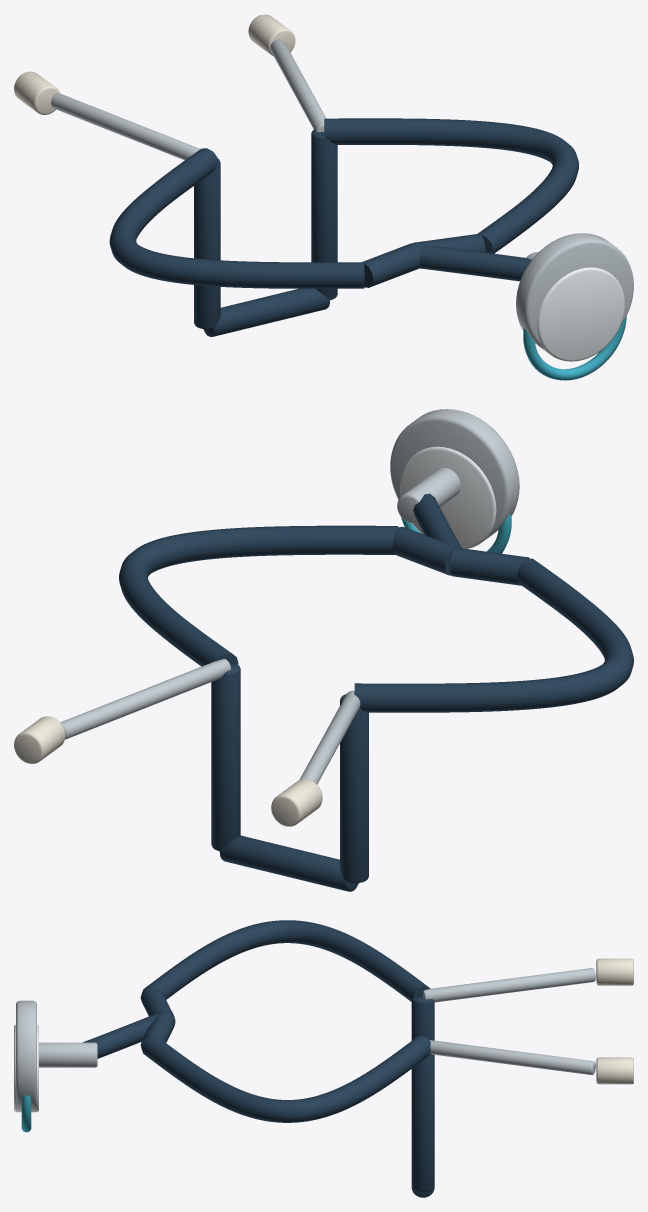
The model's file is medical_stethoscope.glb.
3 renders of one model, top to bottom at view 1: azimuth 30°, elevation 25°; view 2: azimuth 150°, elevation 25°; view 3: azimuth 270°, elevation 25°, orthographic. The views are drawn at different scales.
Parts seen in each view (by area): view 1: Stethoscope_LeftTubing, Stethoscope_RightTubing, Stethoscope_Diaphragm, Stethoscope_Chestpiece, Stethoscope_RightNeckSpacer, Stethoscope_LeftNeckSpacer, Stethoscope_NeckContact, Stethoscope_CentreTube, Stethoscope_LeftBinaural, Stethoscope_RightBinaural, Stethoscope_ChestpieceAccent, Stethoscope_LeftYoke (+3 smaller); view 2: Stethoscope_LeftTubing, Stethoscope_RightTubing, Stethoscope_Chestpiece, Stethoscope_RightNeckSpacer, Stethoscope_Diaphragm, Stethoscope_LeftNeckSpacer, Stethoscope_NeckContact, Stethoscope_RightBinaural, Stethoscope_LeftYoke, Stethoscope_RightYoke, Stethoscope_LeftBinaural, Stethoscope_LeftEartip (+3 smaller); view 3: Stethoscope_RightTubing, Stethoscope_LeftTubing, Stethoscope_RightNeckSpacer, Stethoscope_LeftBinaural, Stethoscope_RightBinaural, Stethoscope_Chestpiece, Stethoscope_ChestpieceStem, Stethoscope_CentreTube, Stethoscope_LeftEartip, Stethoscope_RightEartip, Stethoscope_LeftNeckSpacer, Stethoscope_RightYoke (+2 smaller).
Boxes of the visible parts, x1,y1,x2,y2 form: Stethoscope_LeftTubing: (109,148,364,288); Stethoscope_RightTubing: (324,118,578,253); Stethoscope_Diaphragm: (537,267,624,361); Stethoscope_Chestpiece: (516,233,633,349); Stethoscope_RightNeckSpacer: (311,129,337,299); Stethoscope_LeftNeckSpacer: (194,158,220,329); Stethoscope_NeckContact: (203,288,329,336); Stethoscope_CentreTube: (419,246,531,281); Stethoscope_LeftBinaural: (51,93,200,160); Stethoscope_RightBinaural: (270,39,326,132); Stethoscope_ChestpieceAccent: (523,316,626,380); Stethoscope_LeftYoke: (362,243,419,287); Stethoscope_LeftTubing: (354,558,633,712); Stethoscope_RightTubing: (119,525,398,666); Stethoscope_Chestpiece: (390,409,519,537); Stethoscope_RightNeckSpacer: (211,664,240,851); Stethoscope_Diaphragm: (400,446,496,548); Stethoscope_LeftNeckSpacer: (340,694,368,883); Stethoscope_NeckContact: (219,835,358,891); Stethoscope_RightBinaural: (60,659,231,739); Stethoscope_LeftYoke: (450,548,529,585); Stethoscope_RightYoke: (392,526,457,575); Stethoscope_LeftBinaural: (299,690,360,784); Stethoscope_LeftEartip: (271,779,322,826); Stethoscope_RightTubing: (141,1036,430,1122); Stethoscope_LeftTubing: (142,920,430,1001); Stethoscope_RightNeckSpacer: (411,1053,434,1192); Stethoscope_LeftBinaural: (423,968,595,1002); Stethoscope_RightBinaural: (429,1040,595,1074); Stethoscope_Chestpiece: (16,1000,36,1107); Stethoscope_ChestpieceStem: (39,1042,97,1067); Stethoscope_CentreTube: (82,1013,158,1058); Stethoscope_LeftEartip: (596,958,633,985); Stethoscope_RightEartip: (596,1057,633,1084); Stethoscope_LeftNeckSpacer: (411,997,434,1040); Stethoscope_RightYoke: (140,1011,175,1050).
Bounding box in the file's own units: 0.2148 × 0.1065 × 0.297.
